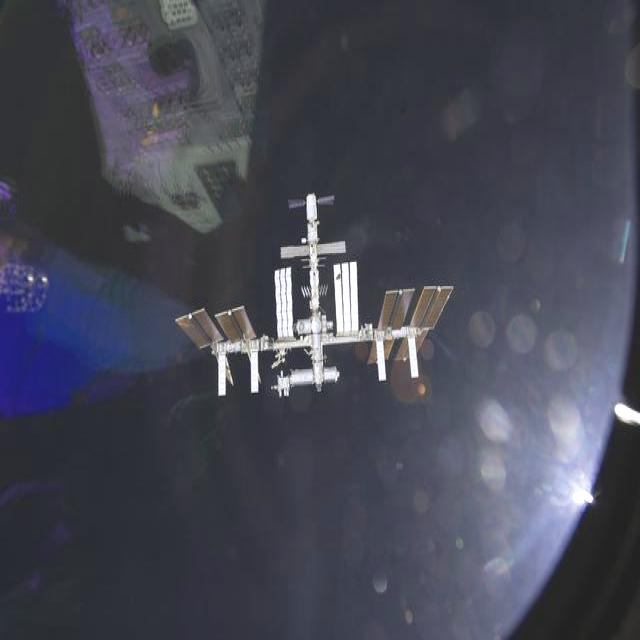satellite: (160, 185, 450, 418)
